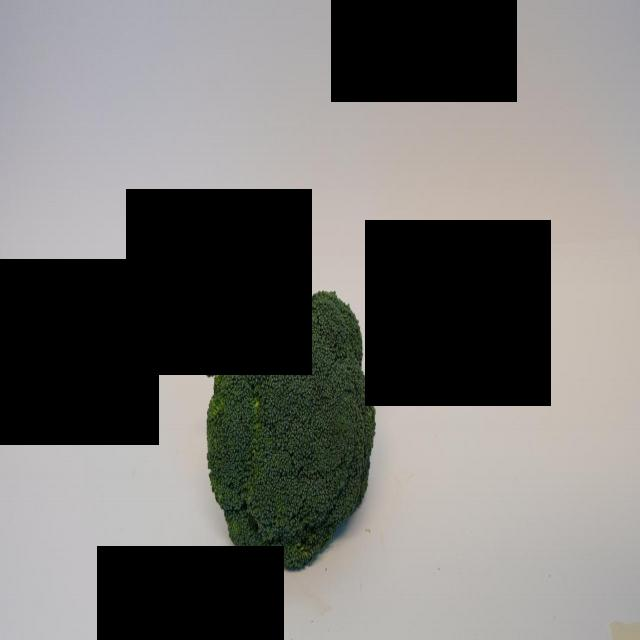broccoli: (202, 275, 380, 572)
